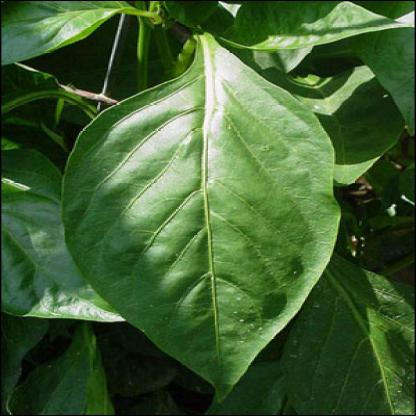Bell_pepper leaf: (55, 60, 348, 408)
